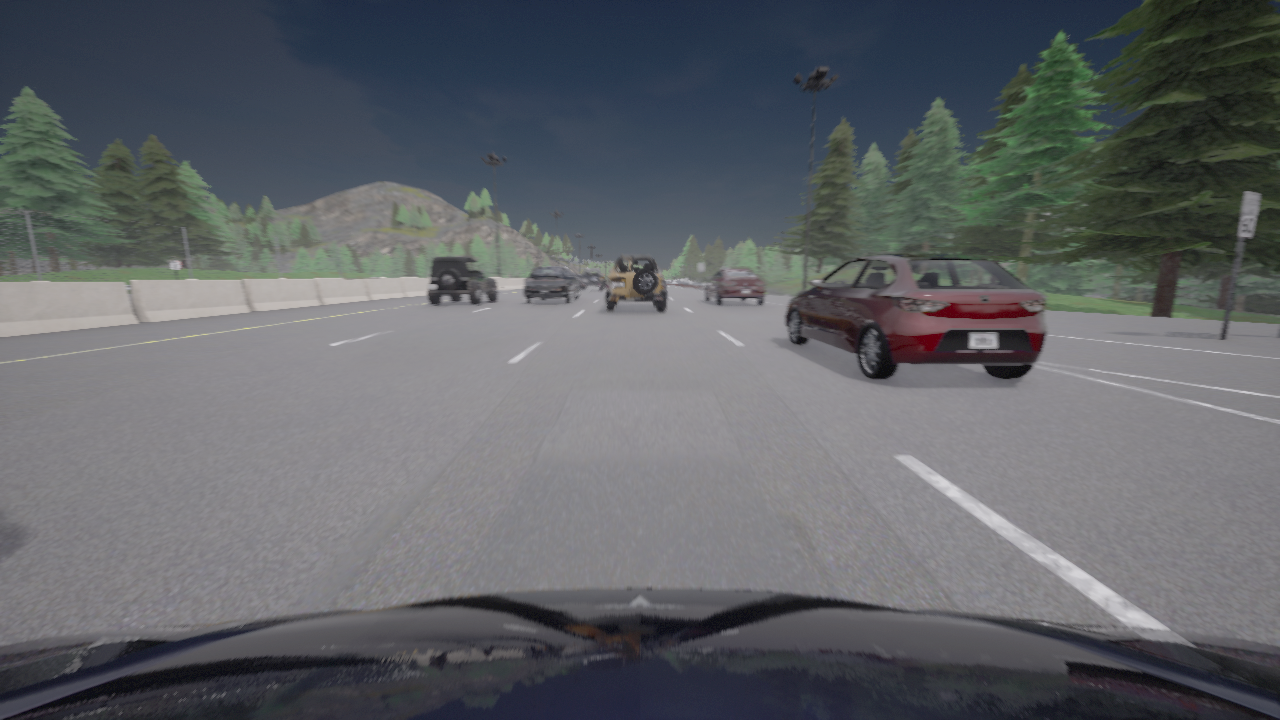cyclist: (0, 588, 1279, 719), (784, 252, 1047, 379), (606, 254, 666, 311), (426, 256, 497, 304), (704, 267, 765, 305), (524, 266, 580, 303), (580, 268, 605, 290)
